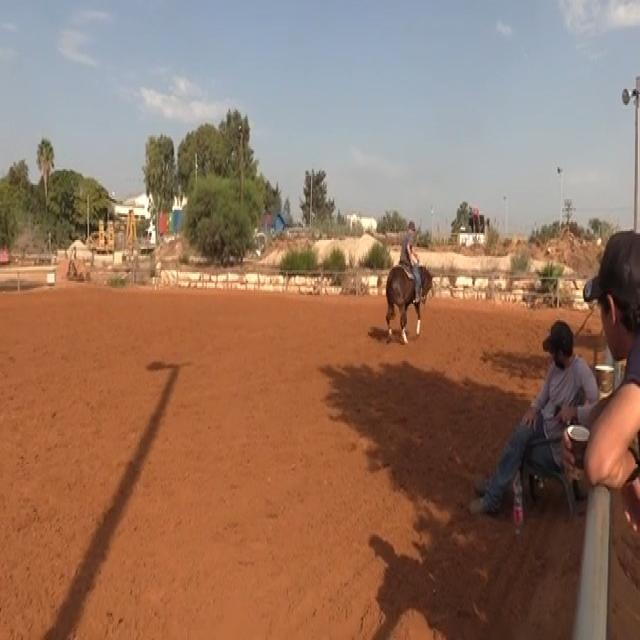horse: (382, 258, 434, 345)
